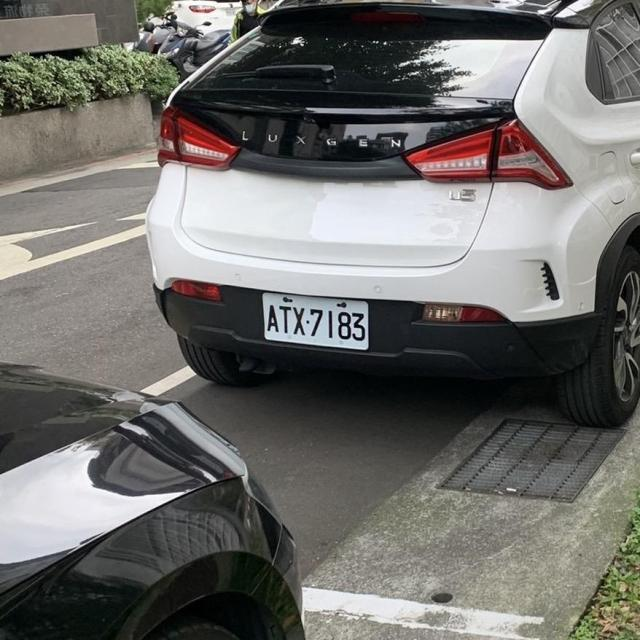W: (249, 283, 382, 359)
